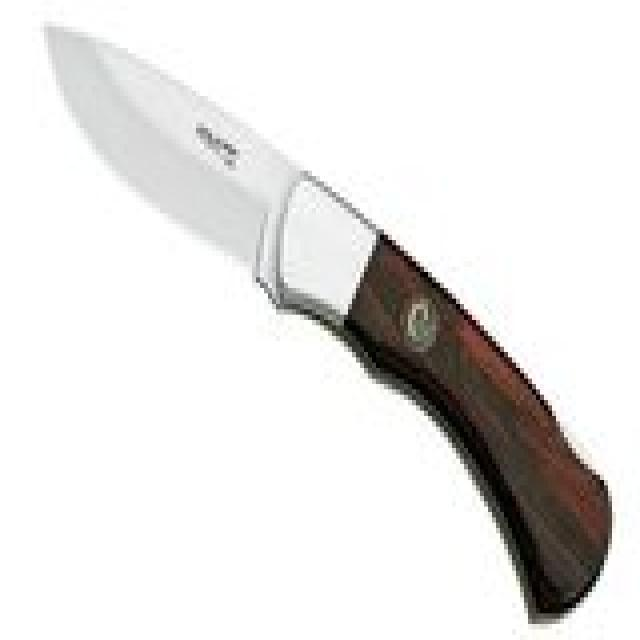Knife: (38, 21, 592, 611)
